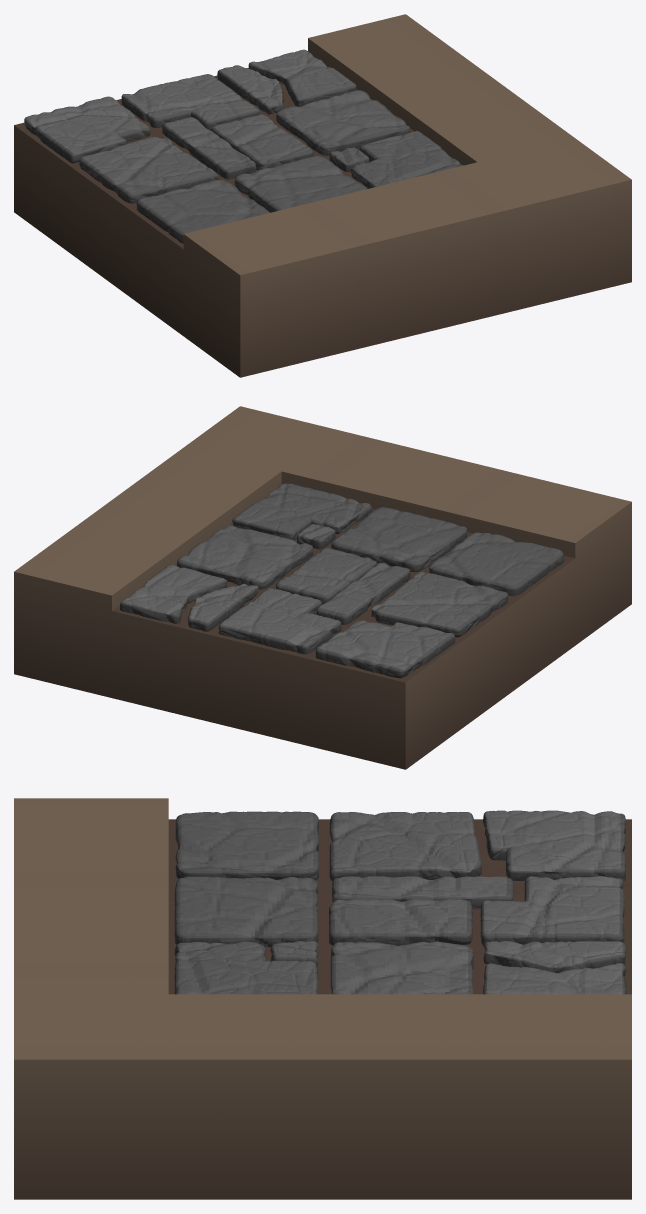
File: MapaFinalTesteo.fbx
The picture shows the model from 3 angles, top to bottom: view 1: azimuth 30°, elevation 25°; view 2: azimuth 150°, elevation 25°; view 3: azimuth 270°, elevation 25°; orthographic projection. The views are drawn at different scales.
Visible parts, largest first — view 1: Floor.003, Cube.001; view 2: Floor.003, Cube.001; view 3: Floor.003, Cube.001.
Boxes of the visible parts, bbox=[...] form: Floor.003: bbox=[14, 14, 631, 377]; Cube.001: bbox=[24, 49, 463, 243]; Floor.003: bbox=[14, 406, 631, 769]; Cube.001: bbox=[120, 483, 564, 678]; Floor.003: bbox=[14, 798, 631, 1199]; Cube.001: bbox=[174, 810, 626, 994].
Bounding box in the file's own units: 800 × 200 × 800.
